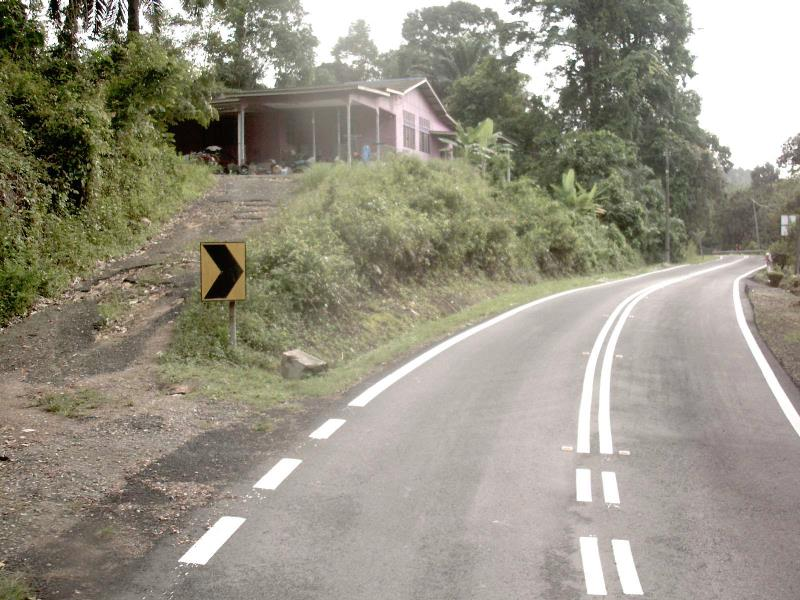traffic_sign: (189, 230, 258, 313)
